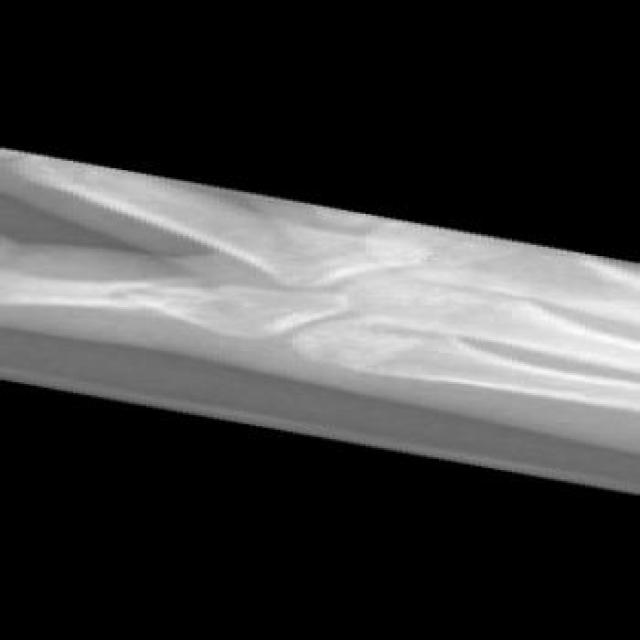Fracture: (70, 274, 233, 318)
